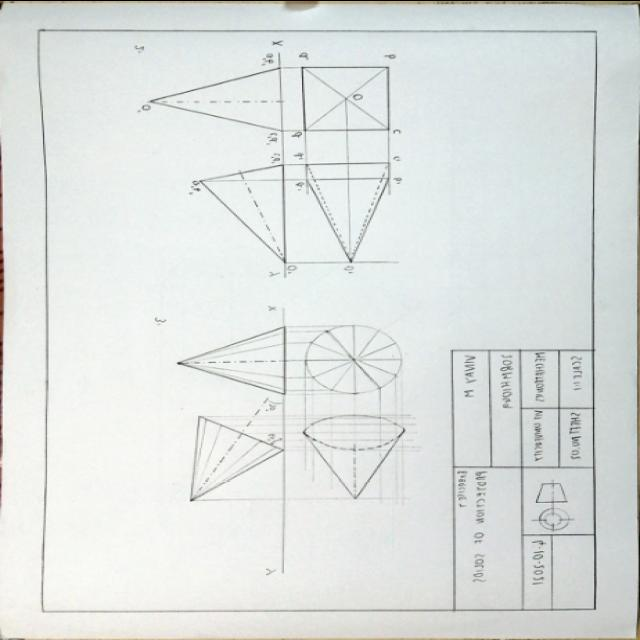Drawings: (128, 38, 426, 278), (168, 306, 418, 518)
